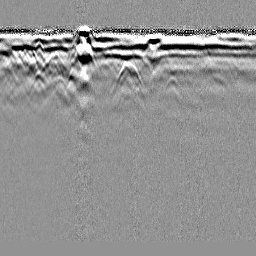cavity: (109, 60, 146, 95)
